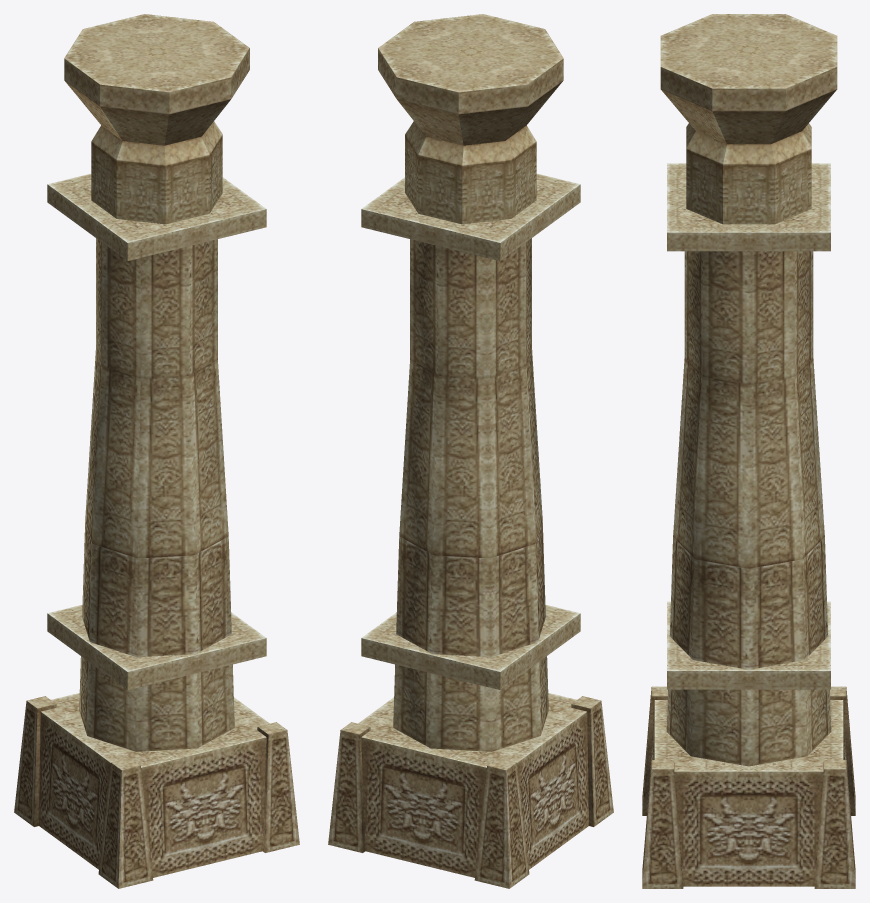
File: general_obj_bigtoewr03.fbx
3 views of the same model, side by side, from view 1: azimuth 30°, elevation 25°; view 2: azimuth 150°, elevation 25°; view 3: azimuth 270°, elevation 25° (orthographic). The views are drawn at different scales.
Parts seen in each view (by area): view 1: Sphere01; view 2: Sphere01; view 3: Sphere01.
Boxes of the visible parts, bbox=[...] form: Sphere01: bbox=[14, 14, 299, 888]; Sphere01: bbox=[328, 14, 613, 888]; Sphere01: bbox=[642, 14, 855, 888].
Size of the model in its own units: 5.22 by 21.37 by 5.21.
